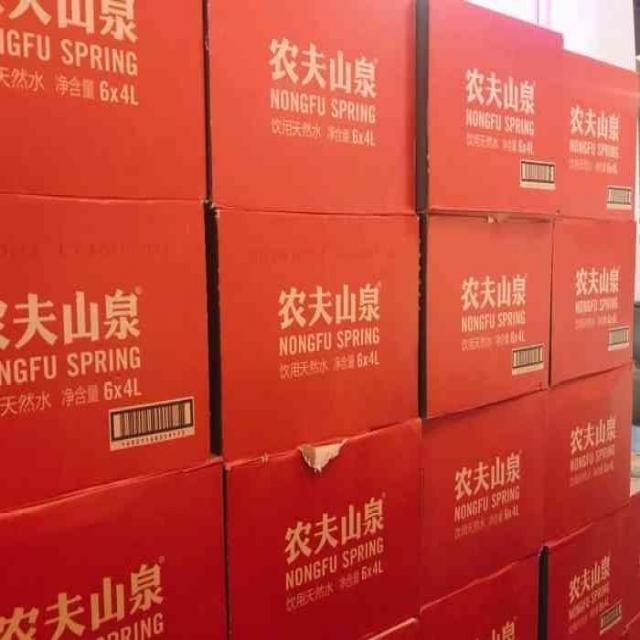box: (0, 185, 216, 517), (212, 198, 426, 464), (204, 0, 420, 215), (224, 415, 419, 640), (0, 0, 205, 210), (0, 454, 222, 640), (412, 0, 565, 216), (416, 379, 554, 612), (414, 200, 556, 416), (542, 358, 638, 550), (546, 205, 640, 383), (555, 45, 640, 222), (546, 484, 640, 640), (416, 543, 544, 640)
